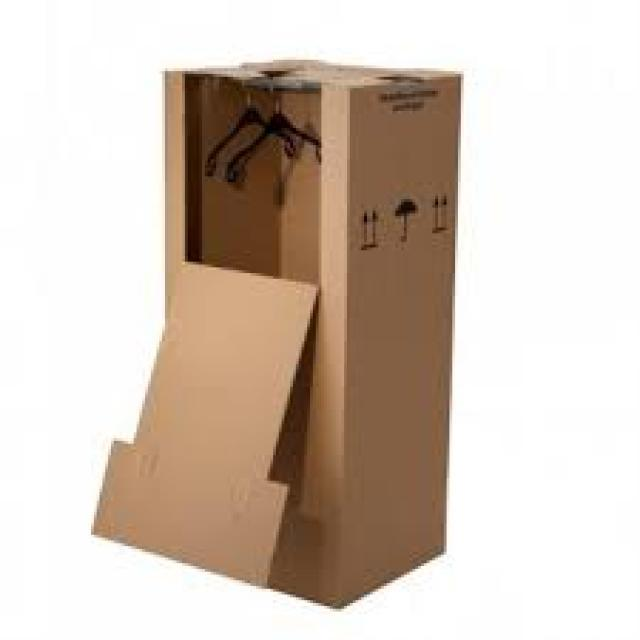Cardboard: (87, 57, 465, 614)
